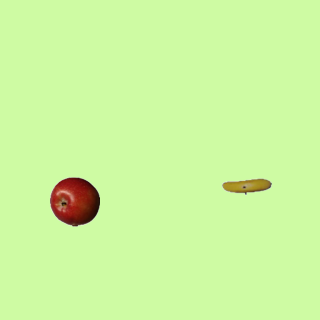Apple Braeburn: (49, 176, 99, 226)
Banana: (221, 161, 271, 211)
